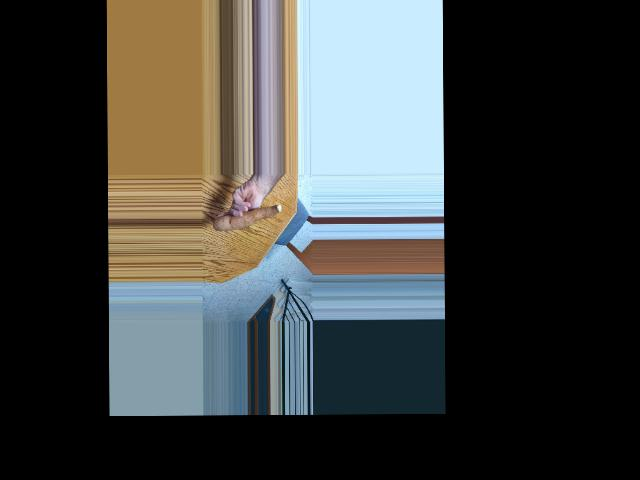sweet_potato: (214, 201, 283, 234)
